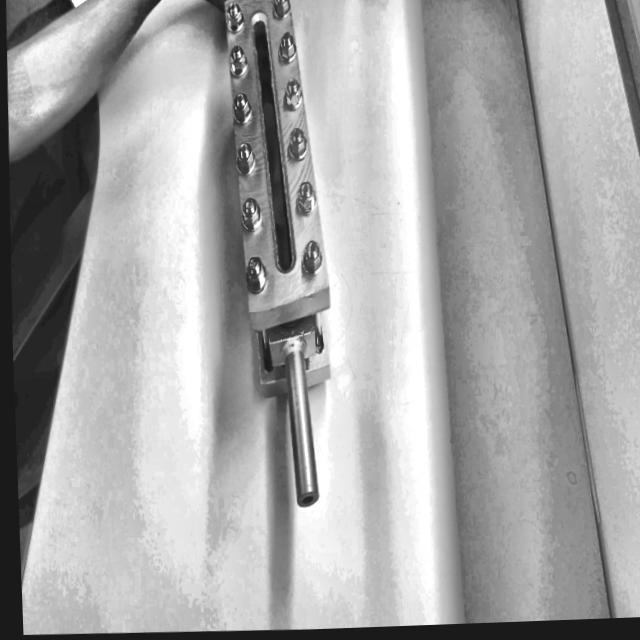ShuiWeiQi_12: (199, 0, 358, 516)
